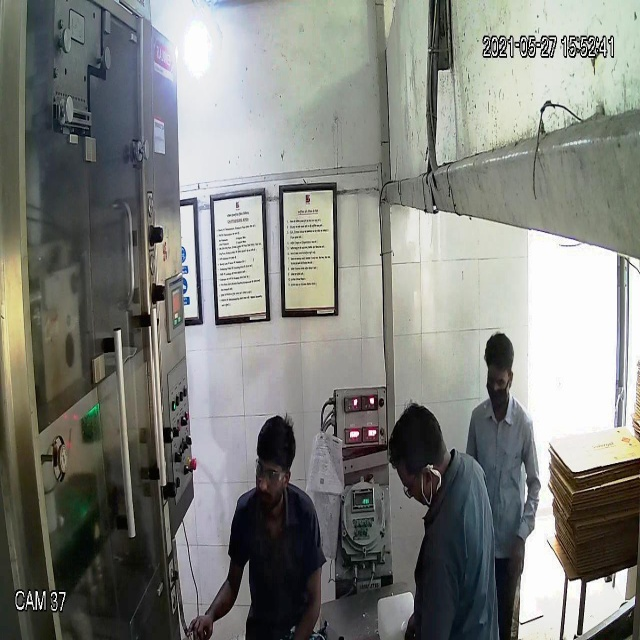Gafas: (252, 456, 292, 487)
Sin_gafas: (482, 367, 511, 389)
